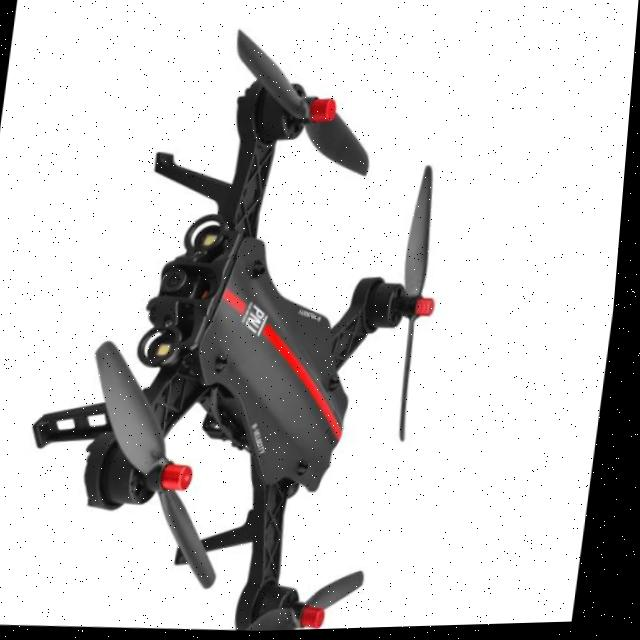drones: (0, 0, 497, 640)
